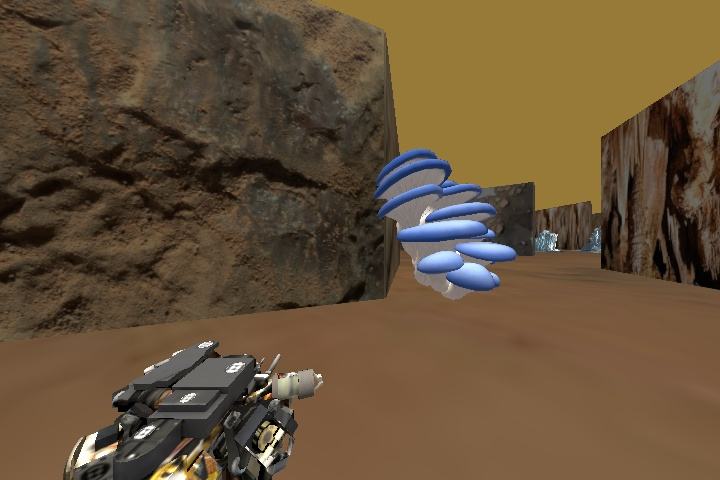minerals: (581, 225, 603, 254), (534, 232, 560, 254)
mushroom: (378, 146, 518, 303)
